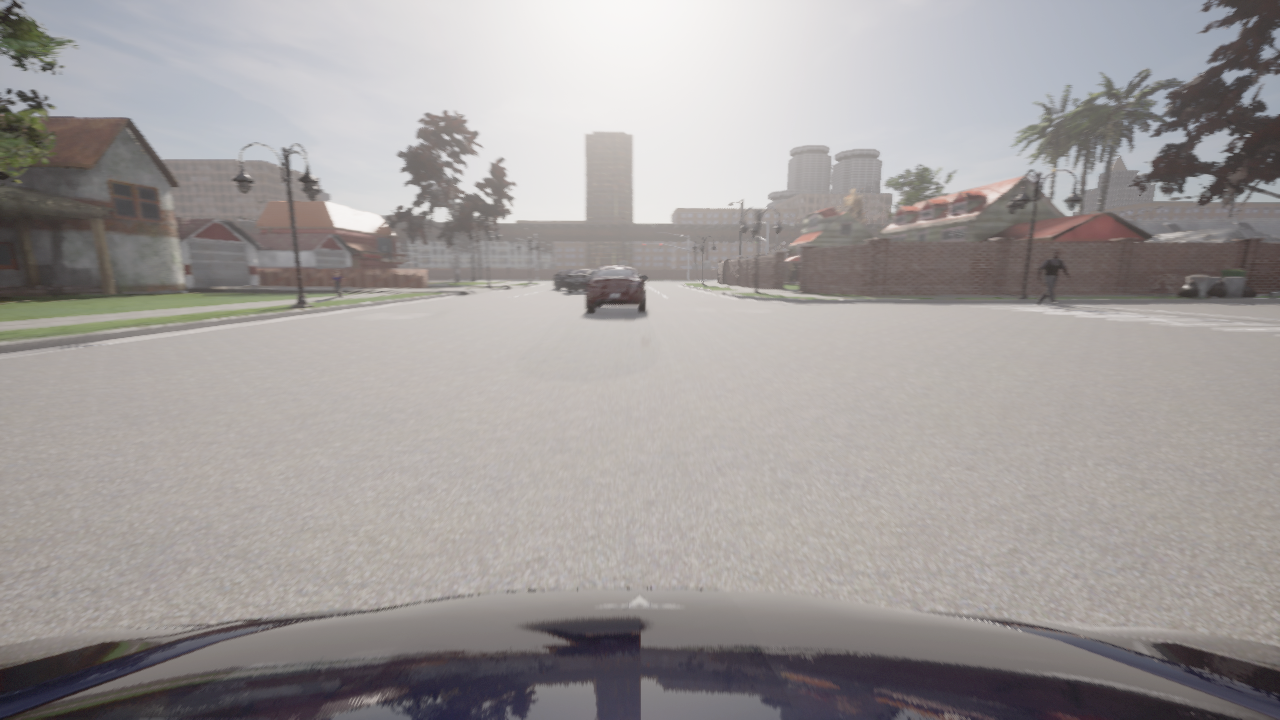cyclist: (0, 588, 1279, 719), (586, 265, 647, 312), (566, 269, 597, 292), (554, 269, 578, 290), (640, 274, 641, 276)
pedestrian: (1036, 250, 1070, 305), (332, 270, 344, 298)
